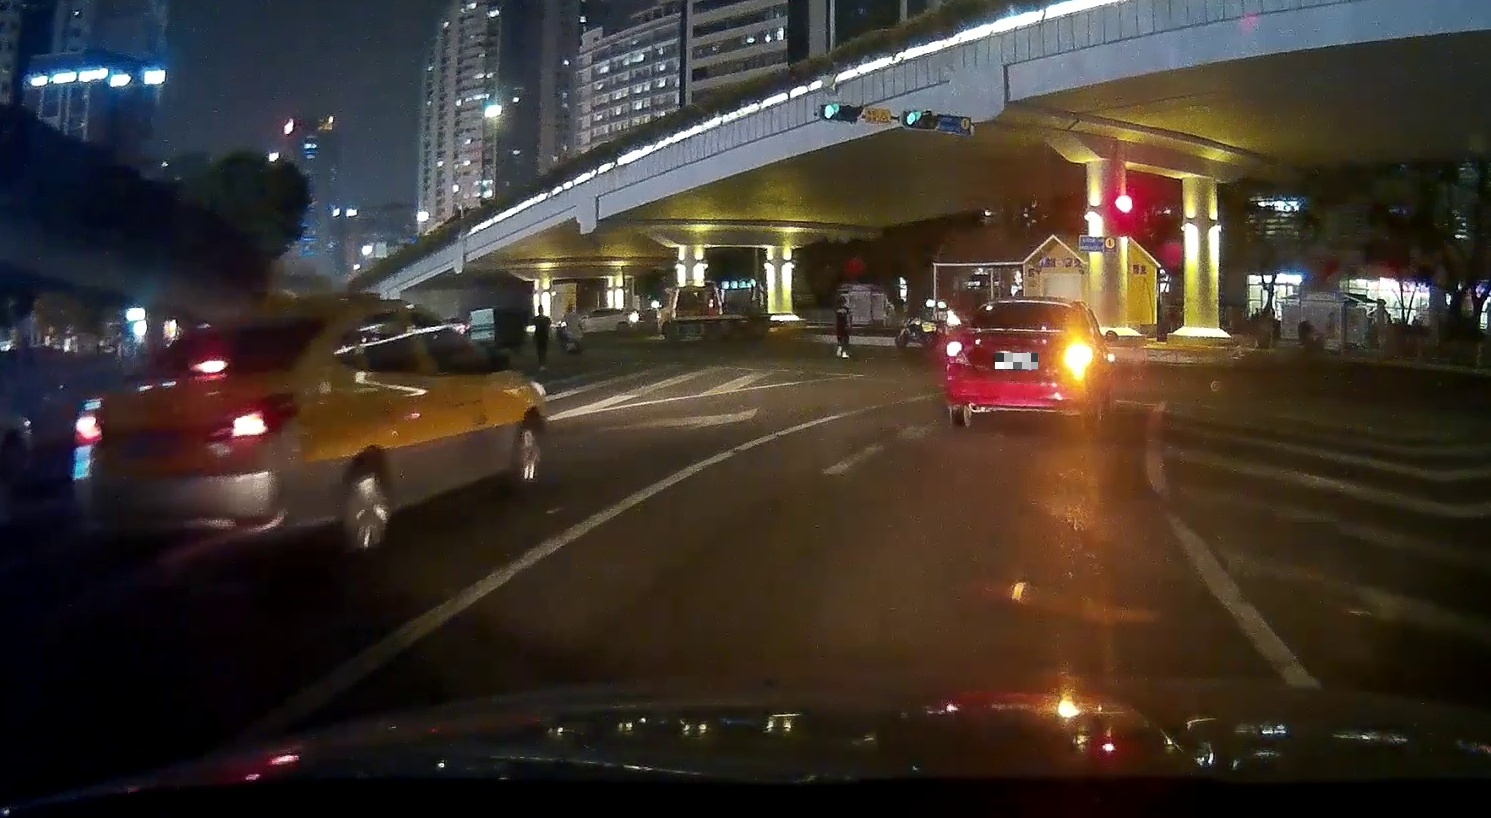L_light: (74, 413, 103, 446), (946, 340, 962, 357)
R_light: (204, 410, 267, 442), (1063, 344, 1093, 369)
T_light: (189, 361, 228, 373), (1018, 302, 1040, 306)
night-brake: (73, 296, 334, 559)
night-right: (946, 295, 1093, 432)
plate_1: (995, 353, 1038, 369)
